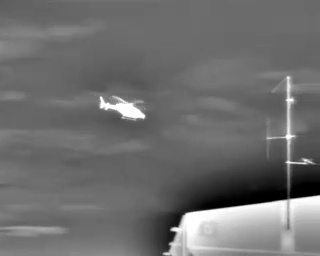HELICOPTER: (96, 88, 155, 129)
